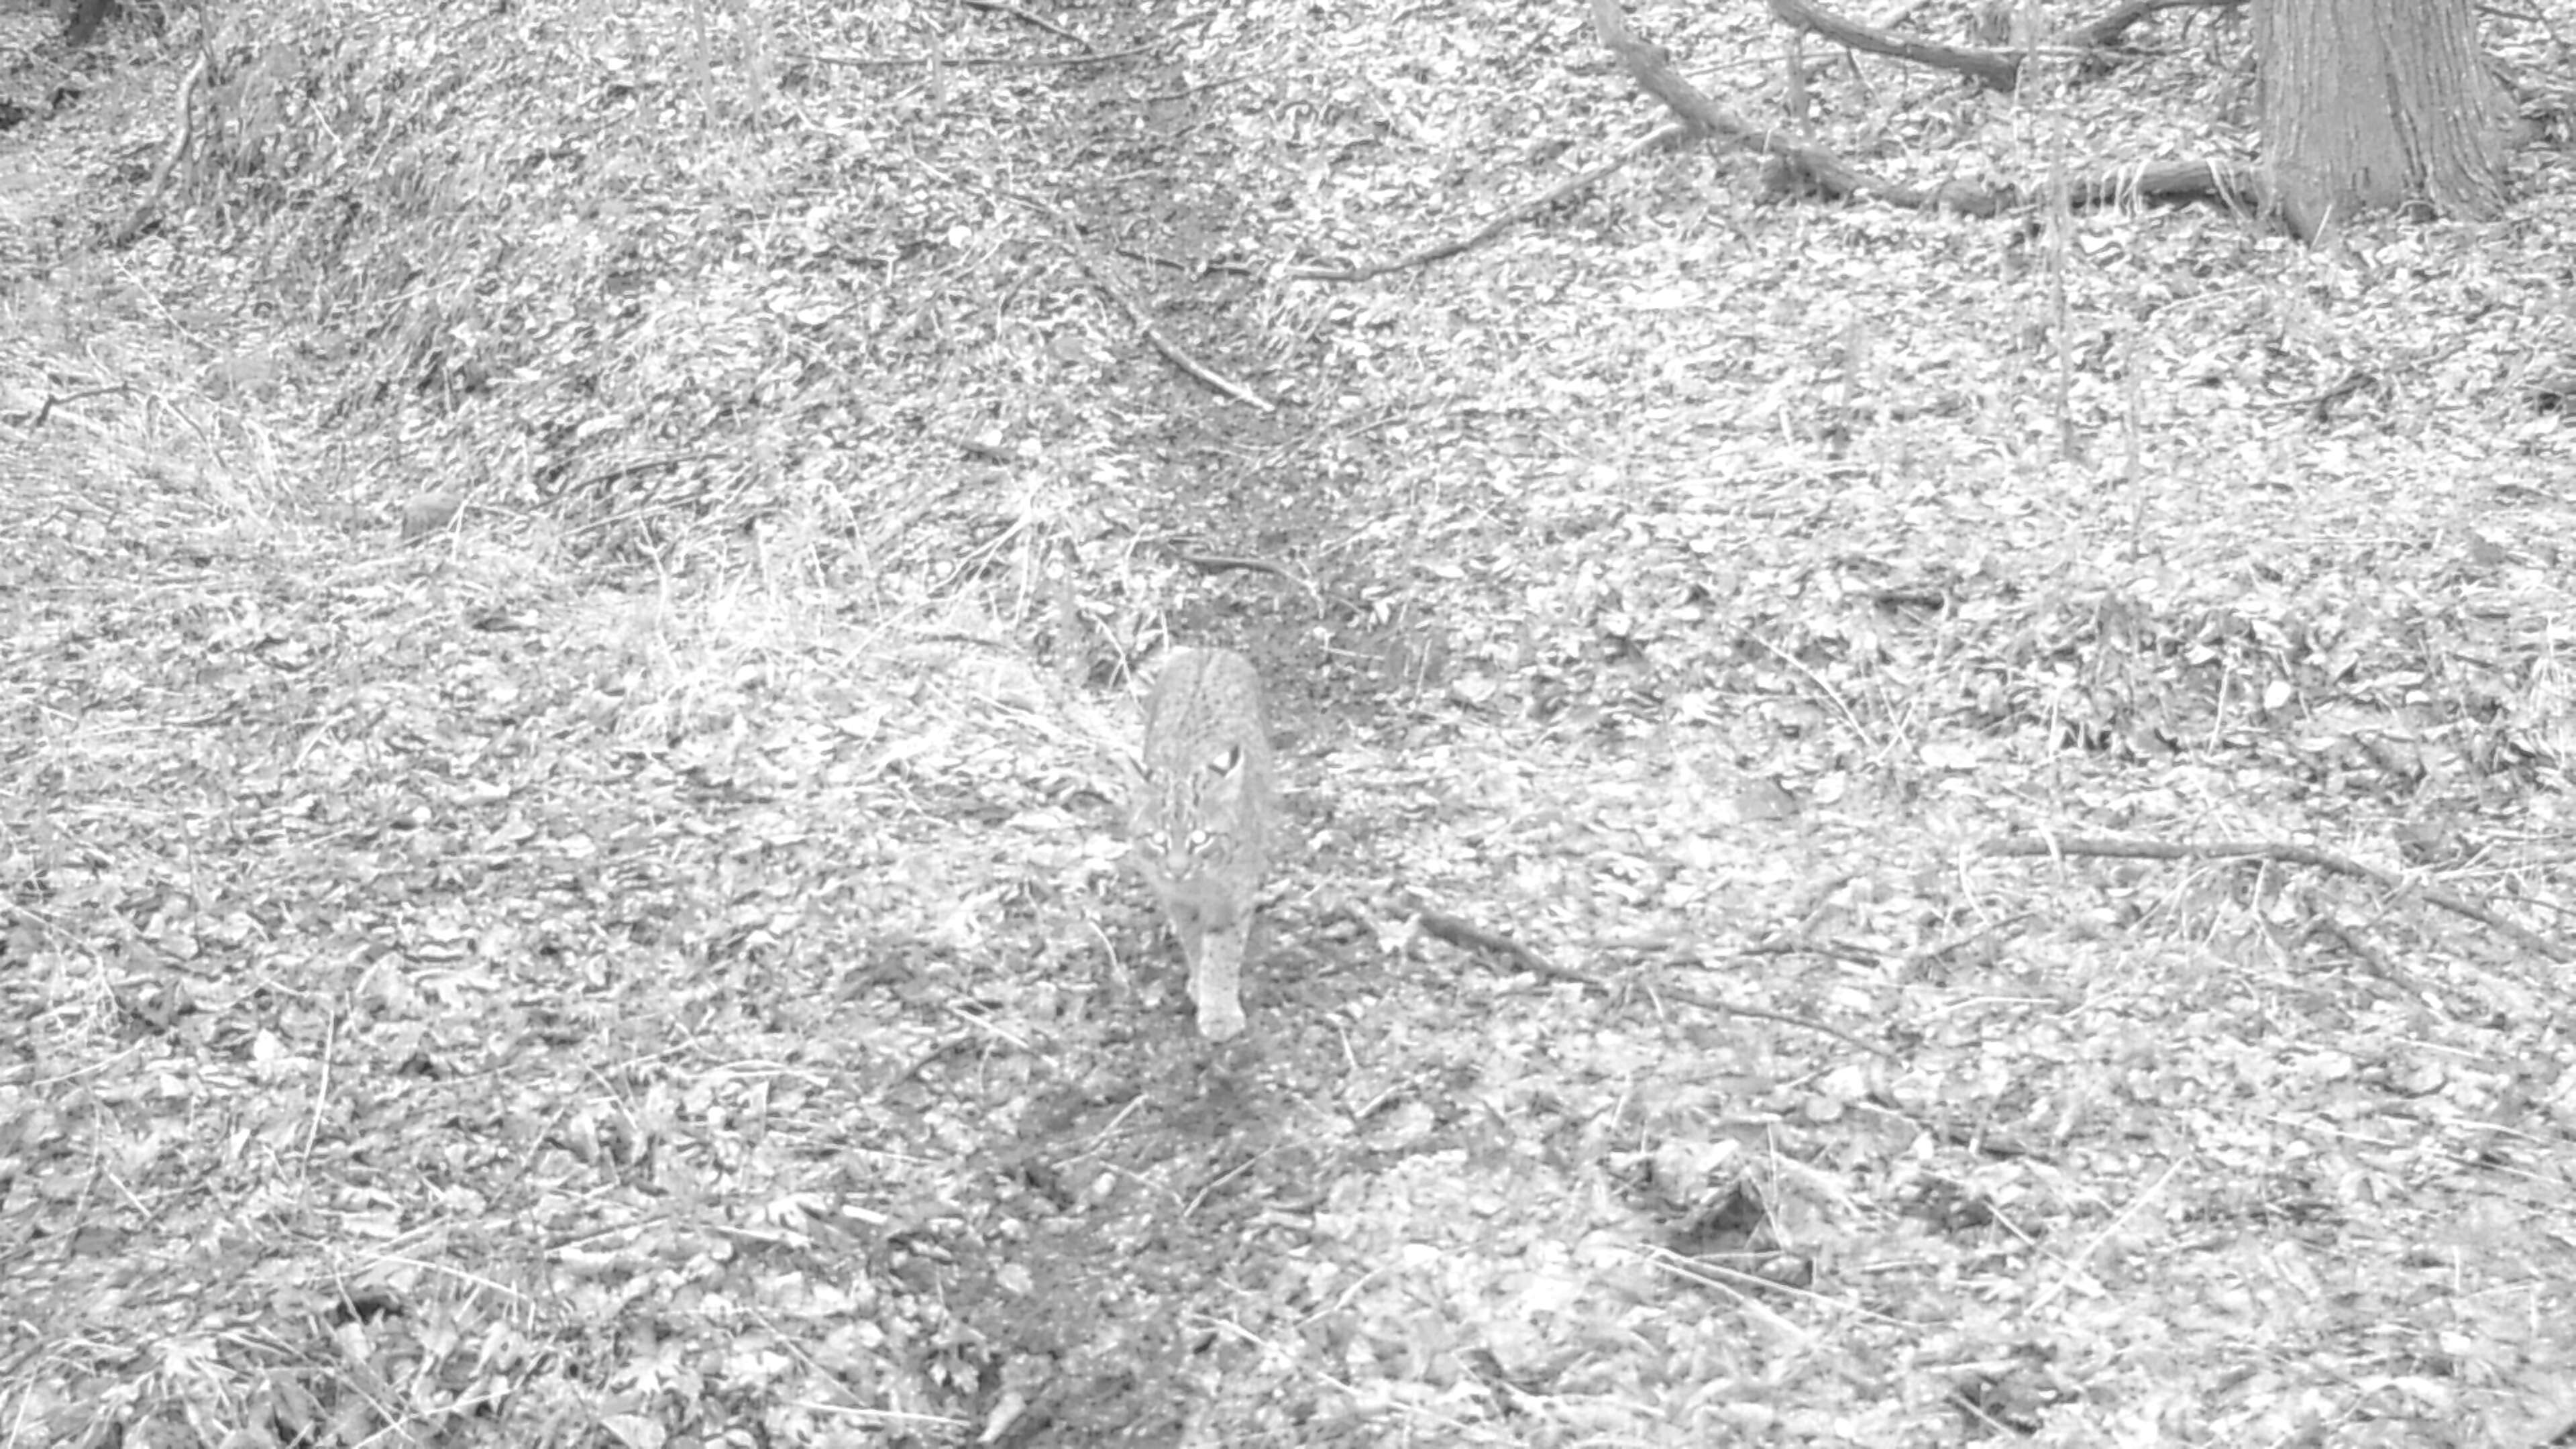Bobcat: (1127, 633, 1276, 1035)
